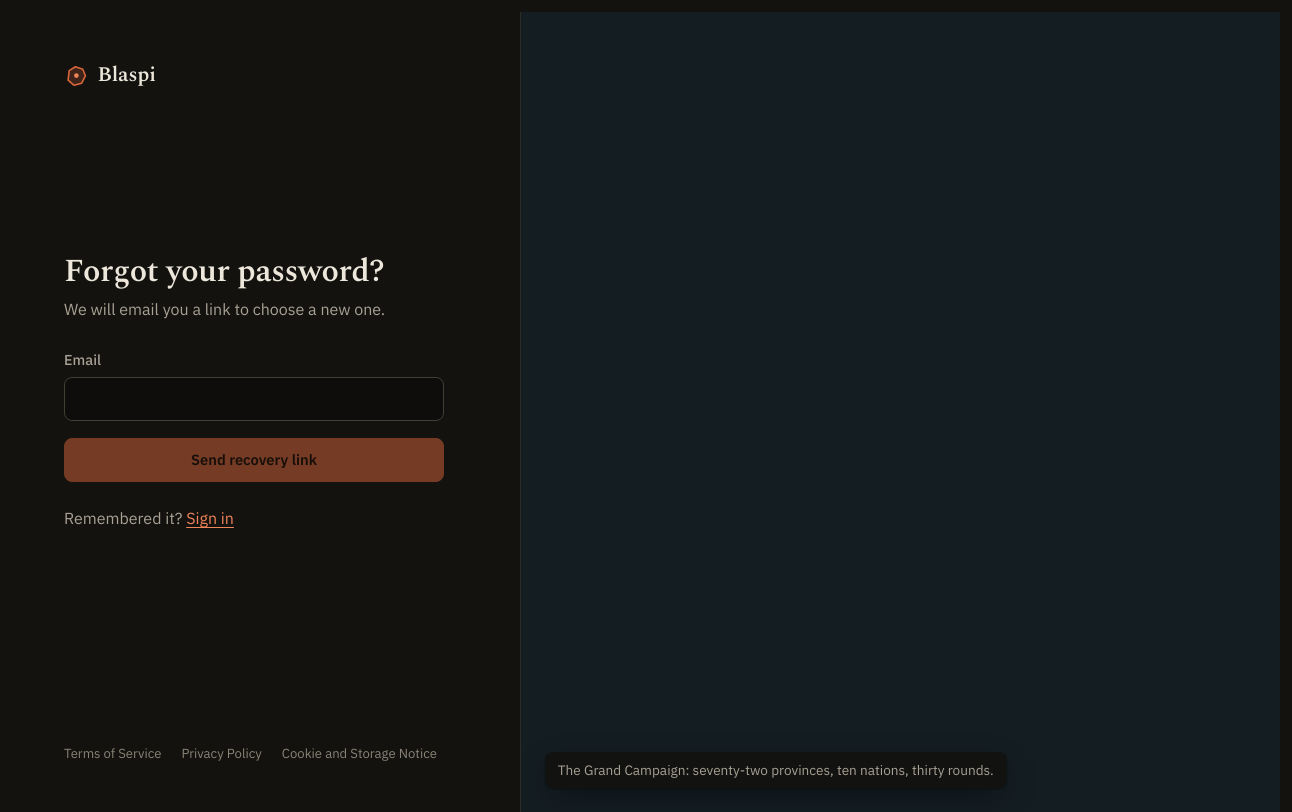
ForgotPasswordPage › answers the same way for every address
This screenshot has width=1292, height=812.
Step 1. Type "queen@reach.test" into the field labelled "Email" → (254, 399), box [64, 377, 444, 421]
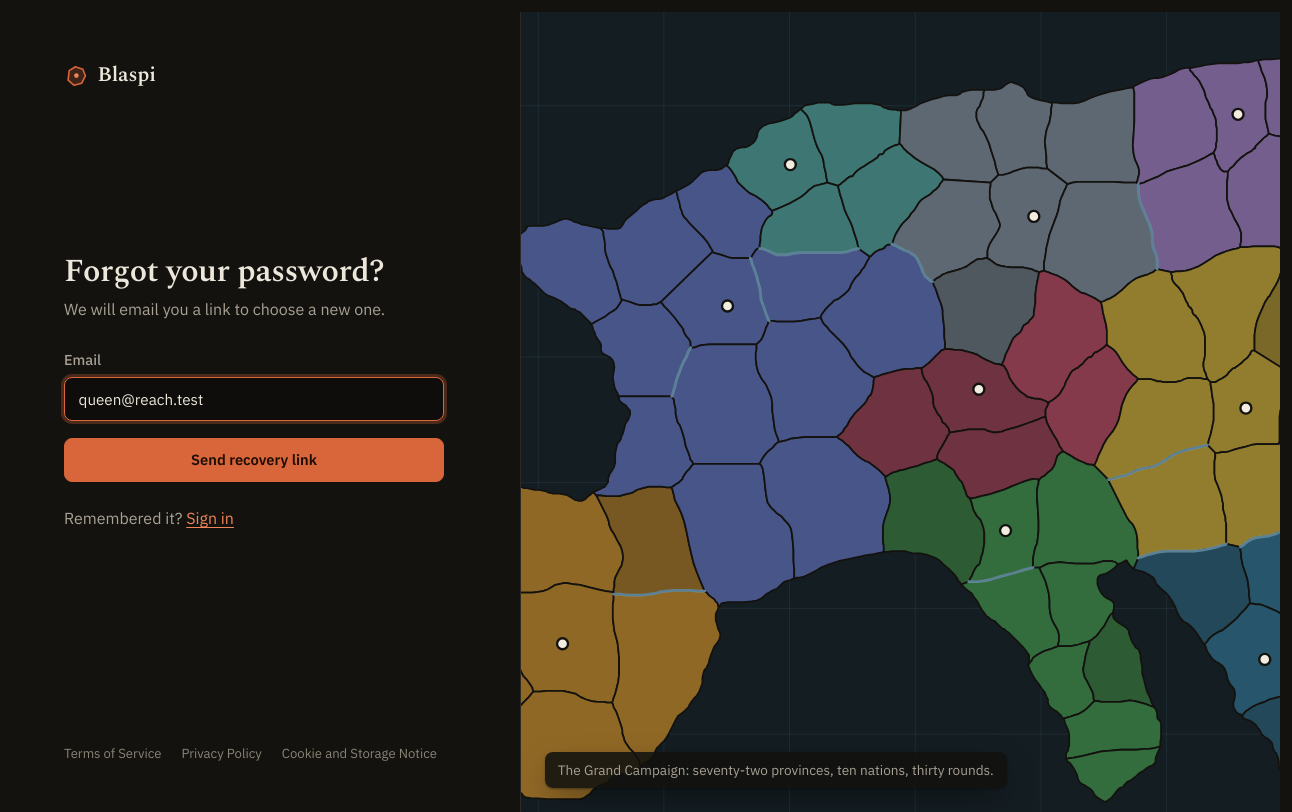
Step 2. Click the button "Send recovery link" → (254, 460), box [64, 438, 444, 482]
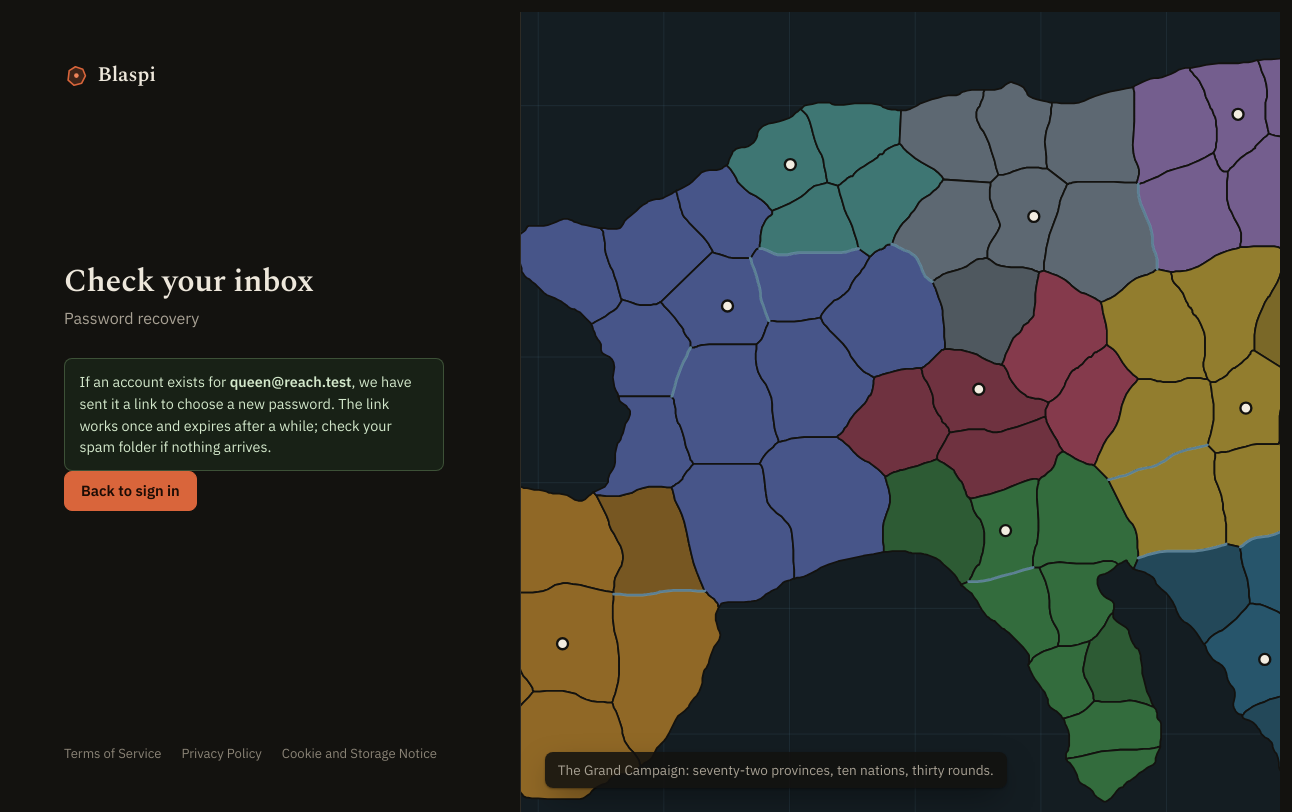
expect the text "If an account exists for" is shown: met, box [79, 372, 230, 391]
